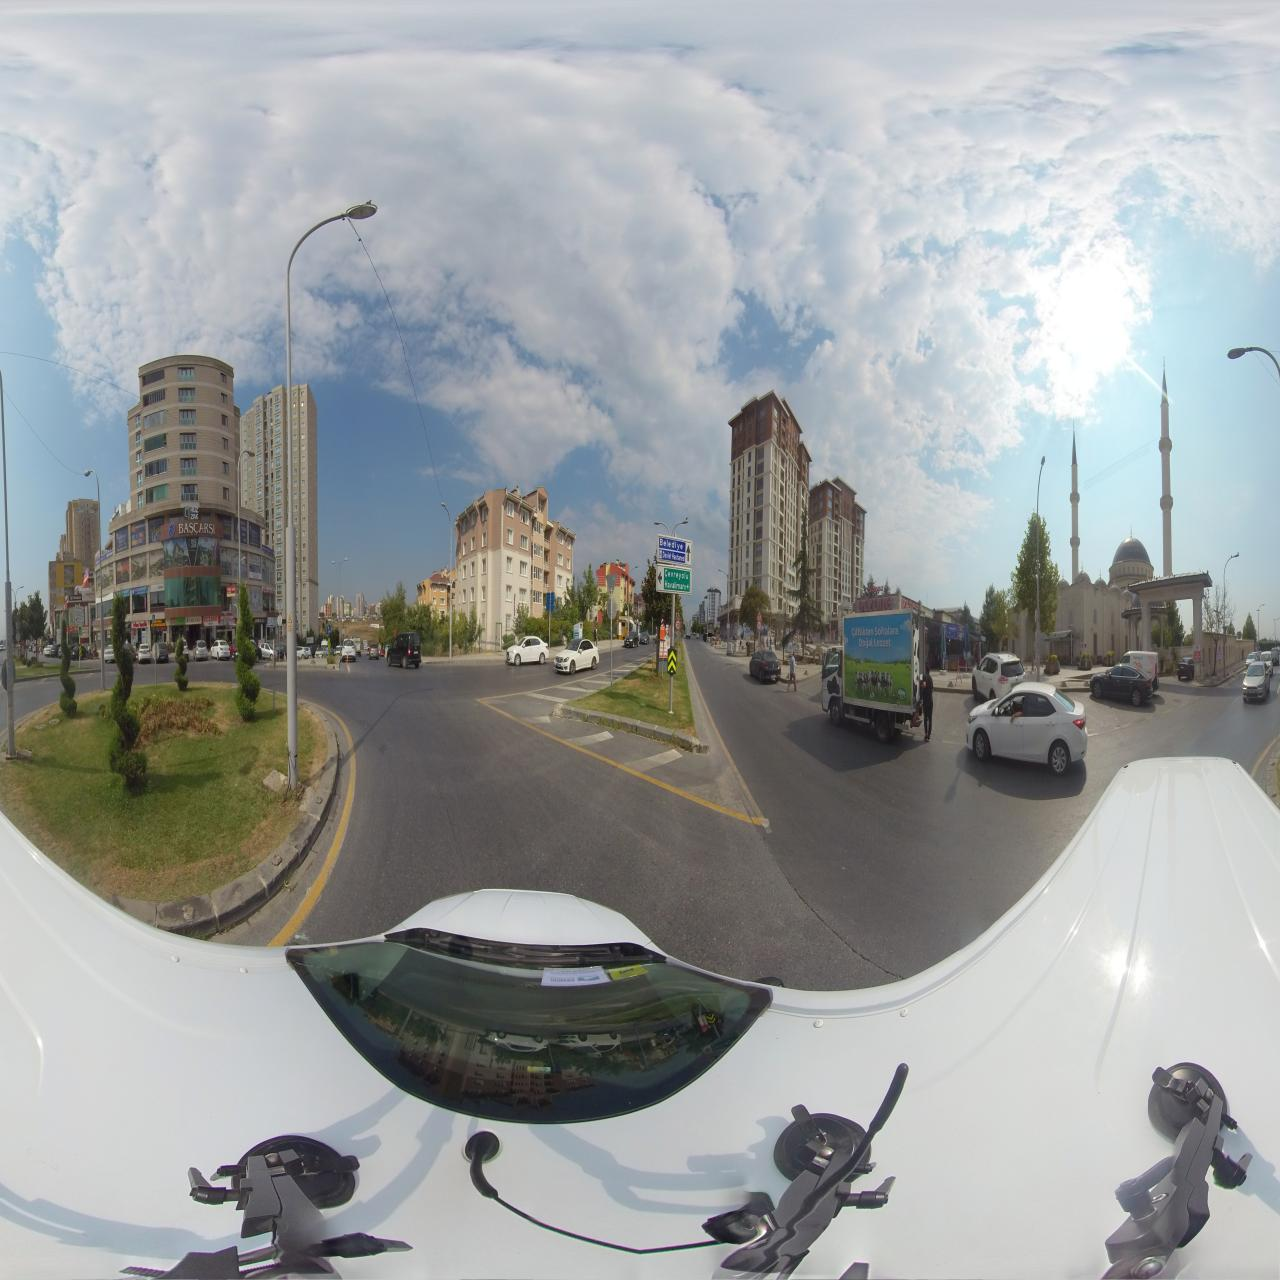SignStore: (204, 615, 218, 626), (185, 615, 202, 624), (132, 620, 148, 628), (155, 619, 166, 629), (263, 586, 275, 595), (170, 617, 184, 625), (132, 586, 147, 594), (83, 591, 95, 600), (150, 584, 163, 592), (69, 594, 82, 601), (254, 618, 267, 624), (222, 612, 233, 618), (68, 626, 79, 632), (123, 588, 130, 597)
